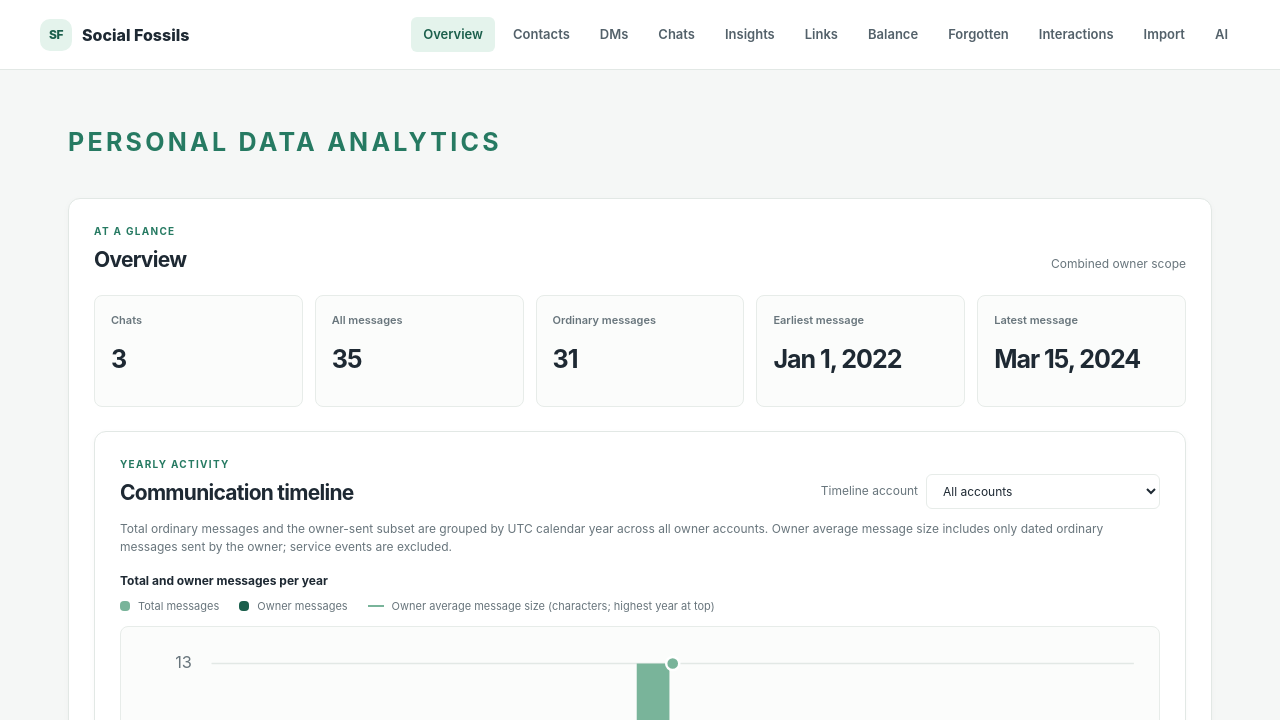
Test case: dashboard › uses one chat selection for the timeline and insight details
expect the heading "All messages" is shown: met, box [332,313,403,327]
Click the tab "Insights" at coordinates (750, 35), box [713,17,787,52]
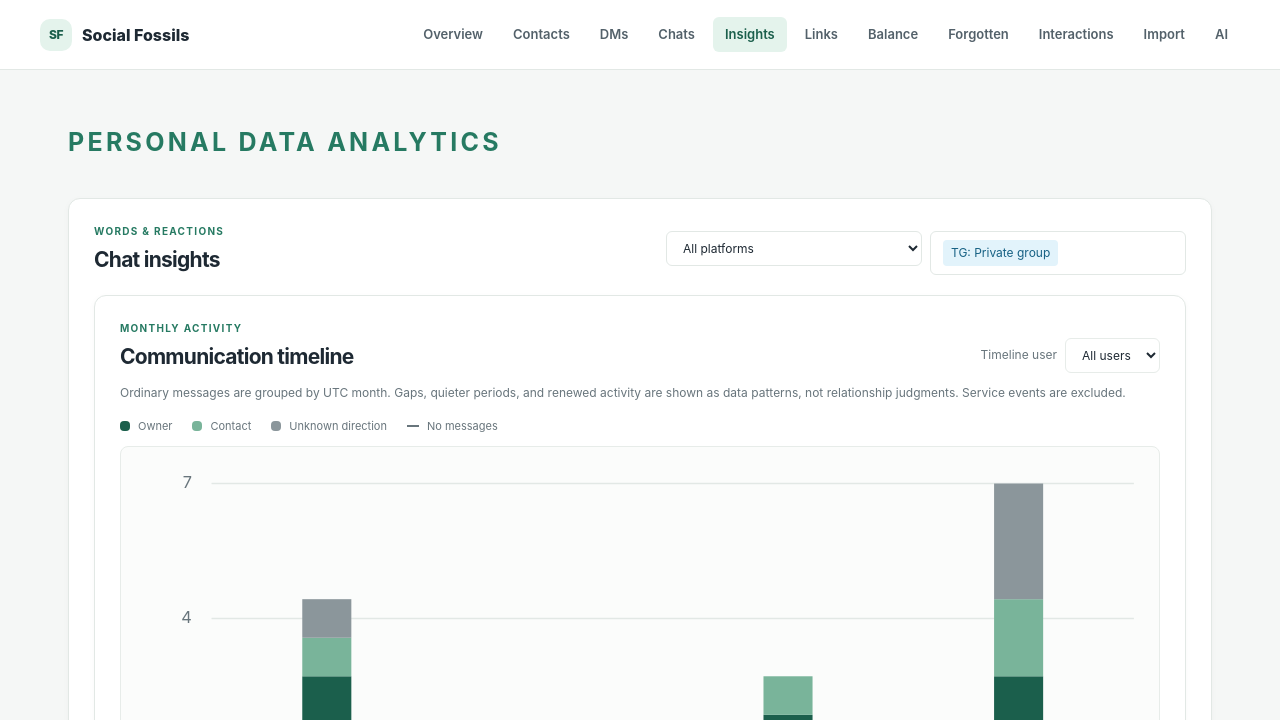
expect the button with aria-label "Choose an insight chat" is shown: met
Click the button with aria-label "Choose an insight chat" at coordinates (1058, 253), box [930,231,1186,275]
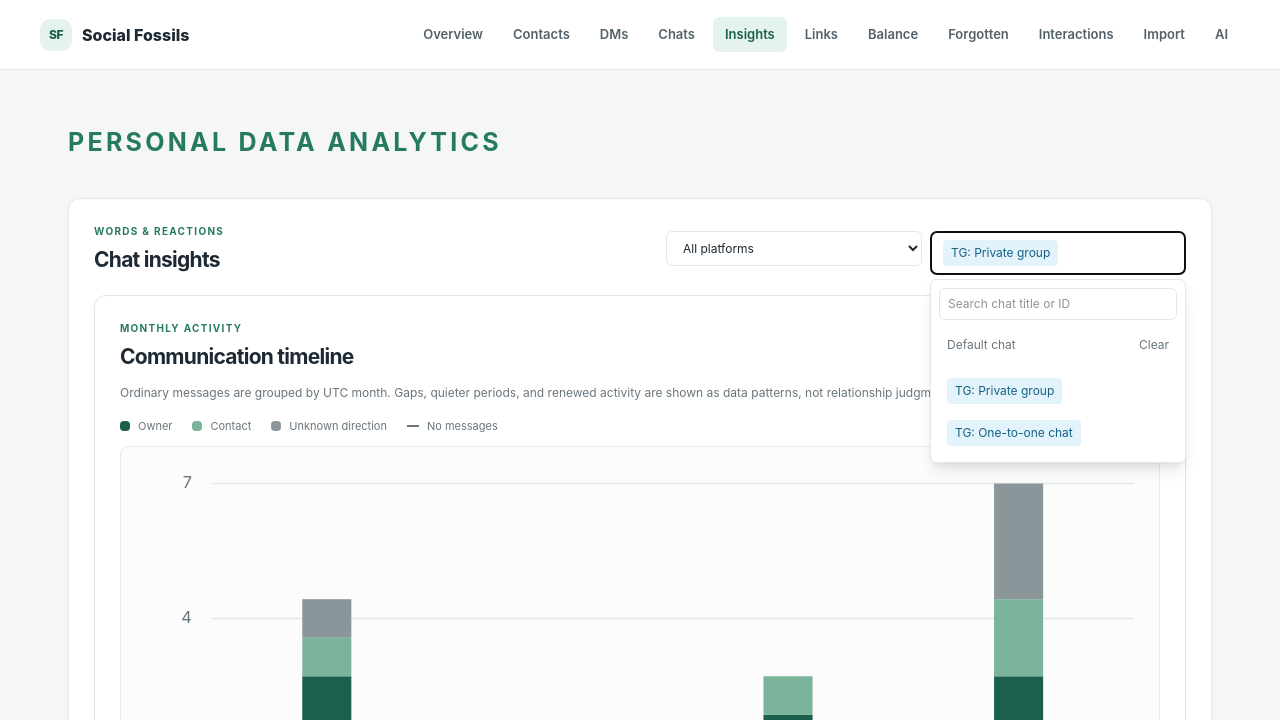
Click the option "TG: One-to-one chat" at coordinates (1058, 433), box [939,412,1177,454]
(page scrolled)
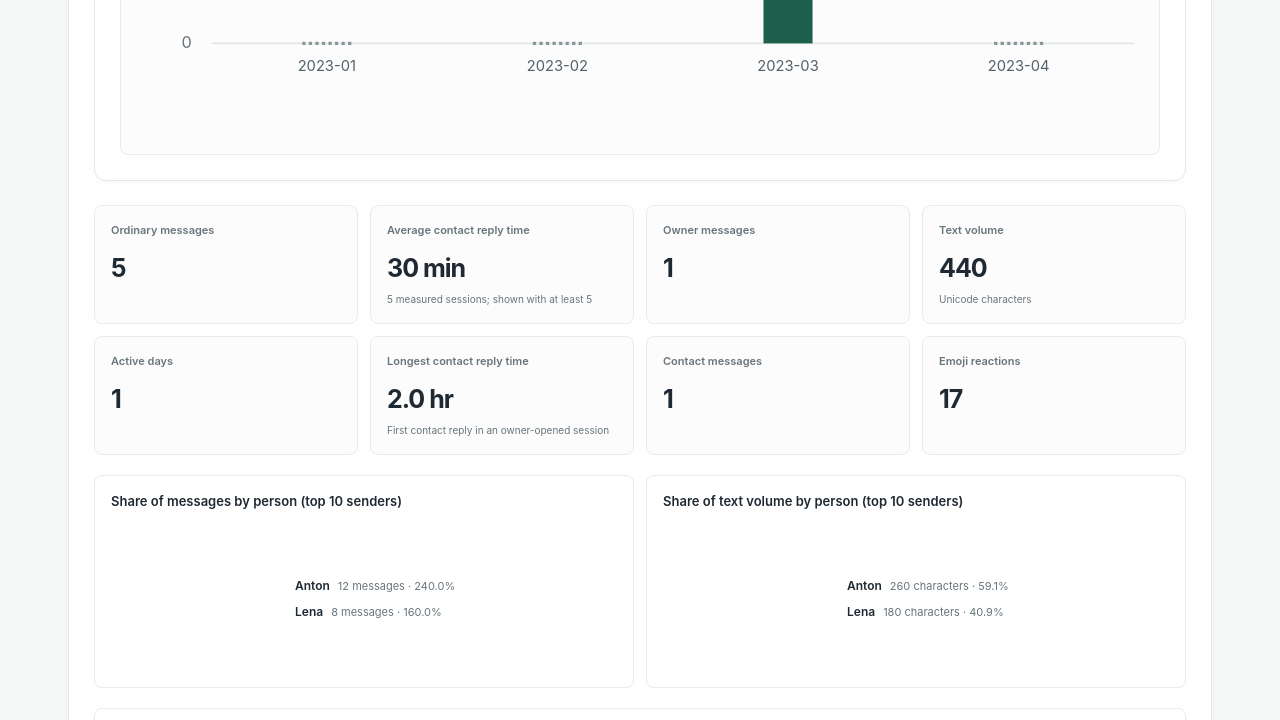
expect the heading "Active days" is shown: met, box [111,354,173,368]
expect the label "Timeline user" is gone: met
expect the heading "Average contact reply time" is shown: met, box [387,222,530,236]
